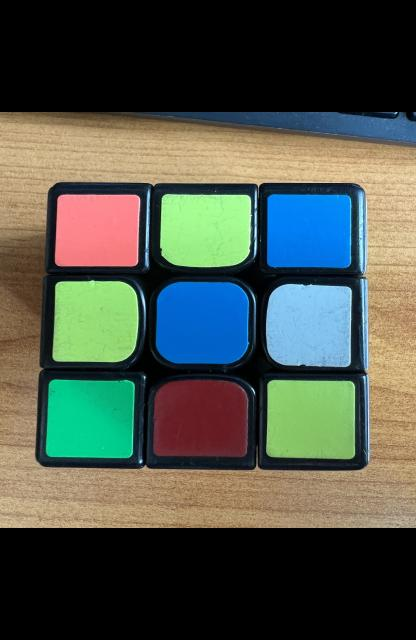Blue: (154, 282, 248, 364), (266, 194, 350, 268)
Green: (44, 380, 134, 459)
Orange: (54, 194, 139, 267)
Red: (152, 380, 247, 456)
White: (264, 284, 350, 367)
Yellow: (266, 380, 354, 460), (52, 281, 138, 362), (159, 194, 250, 268)
